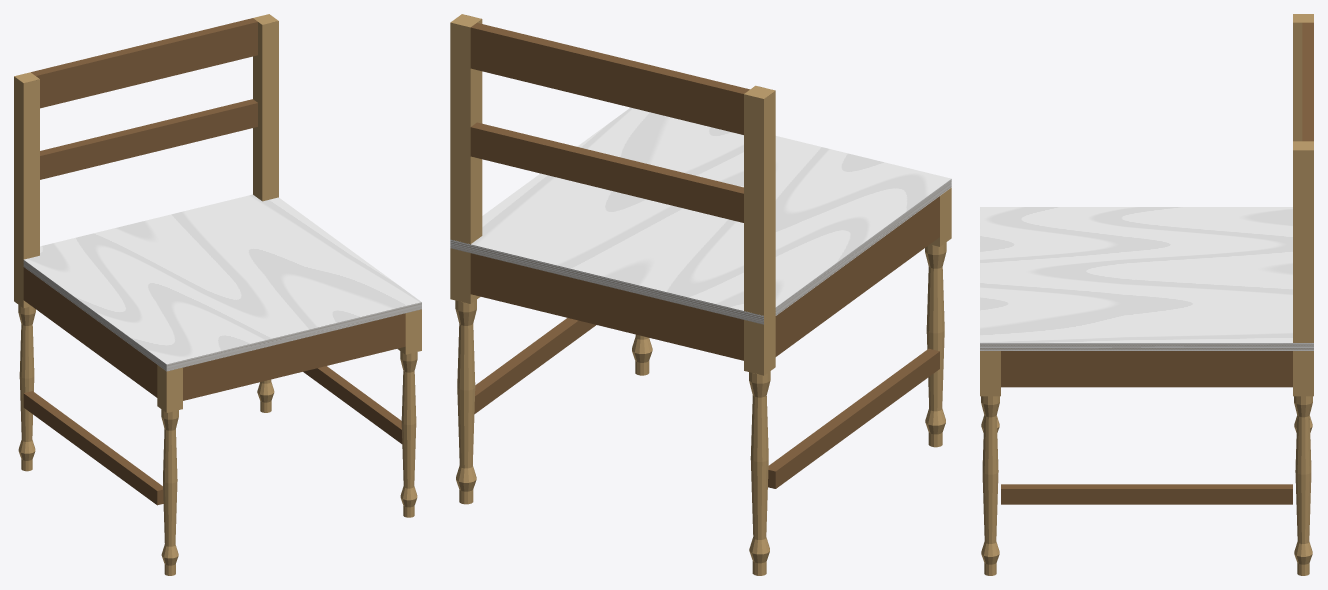
File: FET-ACC-std.glb
The picture shows the model from 3 angles, left to right: view 1: azimuth 30°, elevation 25°; view 2: azimuth 150°, elevation 25°; view 3: azimuth 270°, elevation 25°; orthographic projection. The views are drawn at different scales.
Parts seen in each view (by area): view 1: seat:sheet:eyJtIjoicGx5Iiwic2lkZSI6ImZhY2UiLCJzZWVkIjo2LCJ2Z, back-top:pbr, rail-f:pbr, leg-bl:pbr, back-mid:pbr, leg-br:pbr, rail-l:pbr, leg-fl:pbr, stretcher-l:pbr, leg-fr:pbr, stretcher-r:pbr, seat:sheet:eyJtIjoicGx5Iiwic2lkZSI6ImVkZ2UtZW5kIiwic2VlZCI6N (+1 smaller); view 2: seat:sheet:eyJtIjoicGx5Iiwic2lkZSI6ImZhY2UiLCJzZWVkIjo2LCJ2Z, back-top:pbr, leg-bl:pbr, rail-b:pbr, leg-br:pbr, back-mid:pbr, rail-l:pbr, stretcher-l:pbr, leg-fl:pbr, stretcher-r:pbr, seat:sheet:eyJtIjoicGx5Iiwic2lkZSI6ImVkZ2UtZW5kIiwic2VlZCI6N, seat:sheet:eyJtIjoicGx5Iiwic2lkZSI6ImVkZ2UtbG9uZyIsInNlZWQiO (+1 smaller); view 3: seat:sheet:eyJtIjoicGx5Iiwic2lkZSI6ImZhY2UiLCJzZWVkIjo2LCJ2Z, rail-r:pbr, leg-br:pbr, stretcher-r:pbr, leg-fr:pbr, seat:sheet:eyJtIjoicGx5Iiwic2lkZSI6ImVkZ2UtbG9uZyIsInNlZWQiO, leg-bl:pbr, back-top:pbr.
Part boxes in pixels (box(x1,y1,x2,y2)): seat:sheet:eyJtIjoicGx5Iiwic2lkZSI6ImZhY2UiLCJzZWVkIjo2LCJ2Z: box(24, 194, 421, 364); back-top:pbr: box(31, 18, 257, 108); rail-f:pbr: box(183, 313, 405, 400); leg-bl:pbr: box(14, 72, 39, 471); back-mid:pbr: box(40, 99, 257, 179); leg-br:pbr: box(253, 14, 278, 412); rail-l:pbr: box(23, 267, 157, 397); leg-fl:pbr: box(157, 365, 182, 575); stretcher-l:pbr: box(23, 391, 163, 505); leg-fr:pbr: box(397, 309, 421, 517); stretcher-r:pbr: box(303, 366, 402, 443); seat:sheet:eyJtIjoicGx5Iiwic2lkZSI6ImVkZ2UtZW5kIiwic2VlZCI6N: box(166, 302, 421, 371); seat:sheet:eyJtIjoicGx5Iiwic2lkZSI6ImZhY2UiLCJzZWVkIjo2LCJ2Z: box(471, 107, 950, 310); back-top:pbr: box(470, 23, 749, 134); leg-bl:pbr: box(744, 85, 775, 575); rail-b:pbr: box(470, 253, 743, 360); leg-br:pbr: box(450, 14, 482, 504); back-mid:pbr: box(470, 122, 743, 222); rail-l:pbr: box(775, 196, 939, 356); stretcher-l:pbr: box(768, 348, 939, 488); leg-fl:pbr: box(925, 187, 951, 447); stretcher-r:pbr: box(474, 318, 595, 414); seat:sheet:eyJtIjoicGx5Iiwic2lkZSI6ImVkZ2UtZW5kIiwic2VlZCI6N: box(450, 239, 763, 324); seat:sheet:eyJtIjoicGx5Iiwic2lkZSI6ImVkZ2UtbG9uZyIsInNlZWQiO: box(775, 179, 951, 315); seat:sheet:eyJtIjoicGx5Iiwic2lkZSI6ImZhY2UiLCJzZWVkIjo2LCJ2Z: box(980, 207, 1292, 342); rail-r:pbr: box(1001, 351, 1292, 387); leg-br:pbr: box(1293, 141, 1313, 575); stretcher-r:pbr: box(1001, 484, 1292, 504); leg-fr:pbr: box(980, 351, 1000, 575); seat:sheet:eyJtIjoicGx5Iiwic2lkZSI6ImVkZ2UtbG9uZyIsInNlZWQiO: box(980, 343, 1313, 350); leg-bl:pbr: box(1293, 14, 1313, 432); back-top:pbr: box(1302, 22, 1313, 141).
Bounding box in the file's own units: 0.5601 × 0.82 × 0.58.
Materials: 15 (3 with a texture image).
